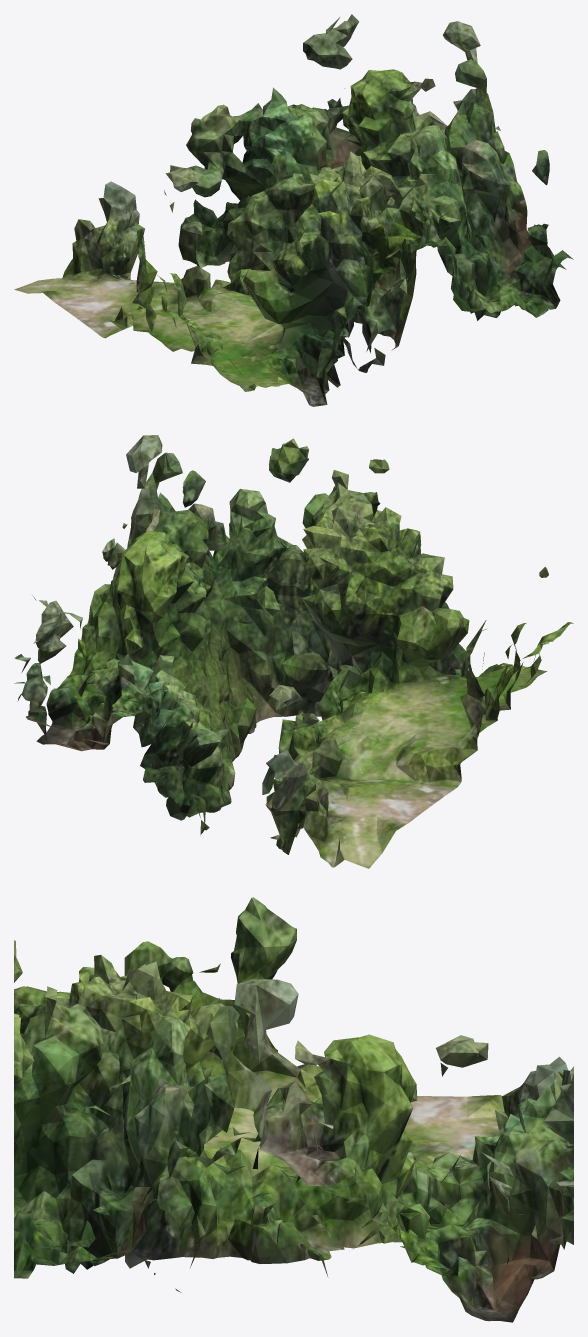
3 renders of one model, top to bottom at view 1: azimuth 30°, elevation 25°; view 2: azimuth 150°, elevation 25°; view 3: azimuth 270°, elevation 25°, orthographic. The views are drawn at different scales.
Bounding box in the file's own units: 52.22 × 38.94 × 52.22.
7 materials, 7 textured.
